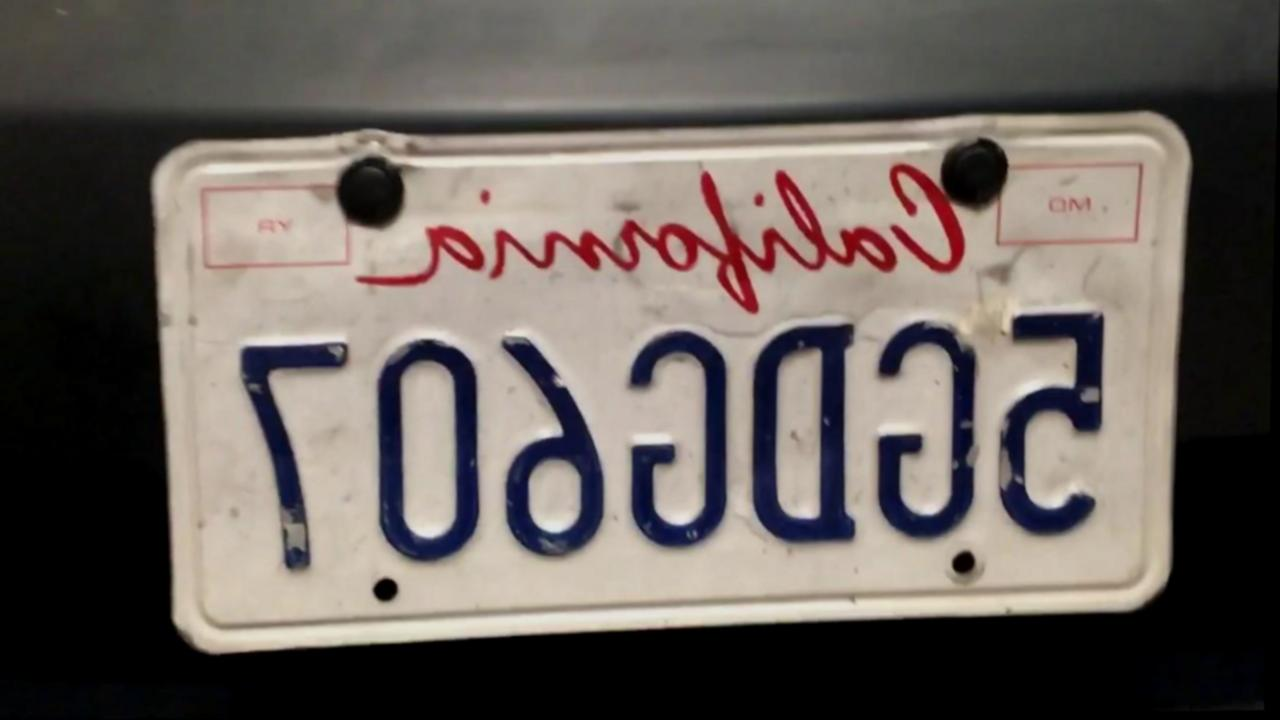License_Plate: (163, 100, 1202, 666)
